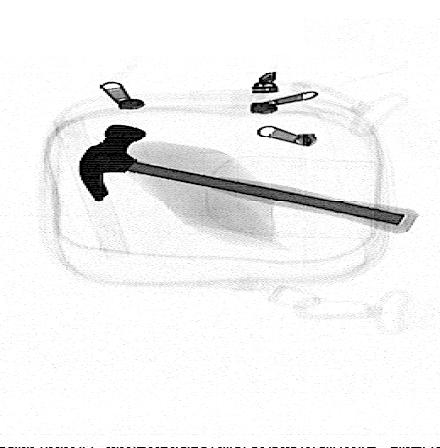Hammer: (78, 124, 419, 234)
